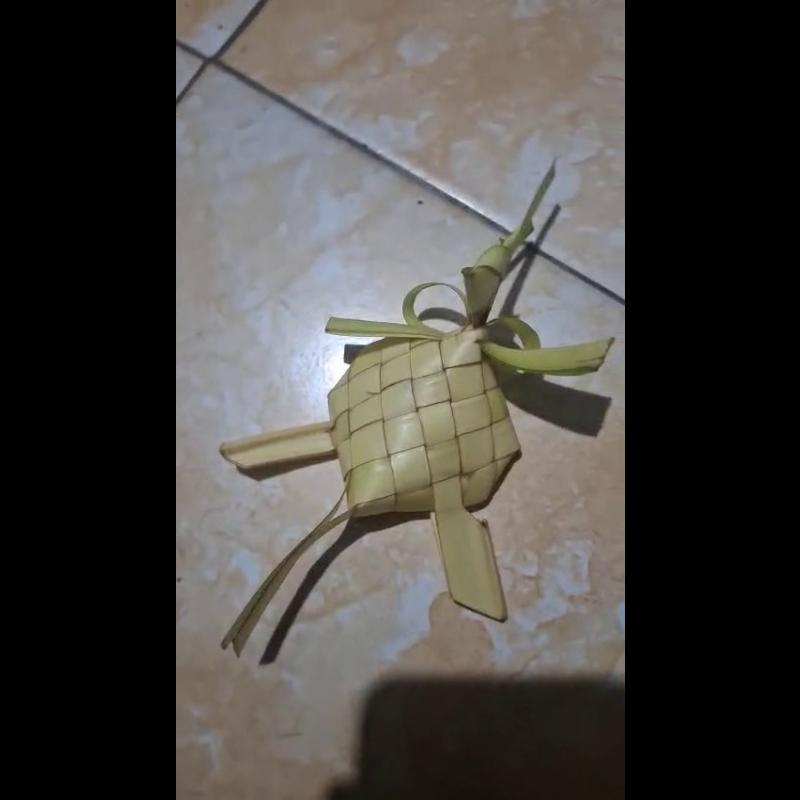Tipat Dampulan: (219, 156, 624, 640)
